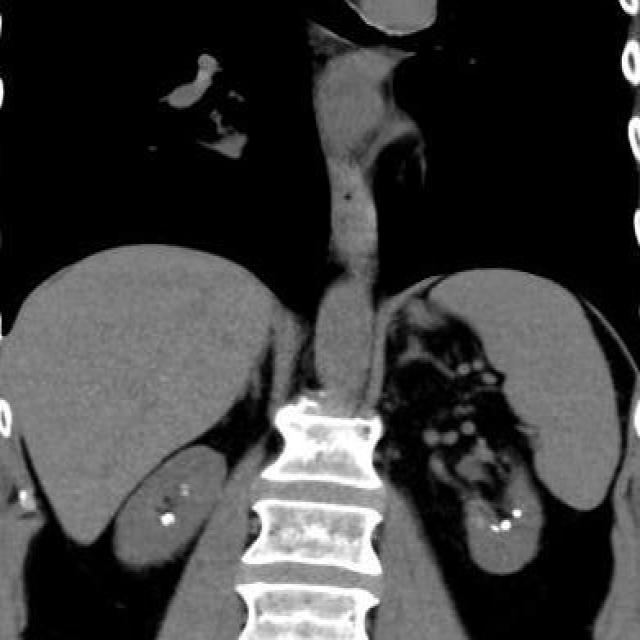Tas_Var: (158, 509, 181, 527), (500, 517, 512, 533), (512, 506, 524, 520), (490, 522, 500, 536), (177, 482, 191, 490), (180, 490, 192, 496)
